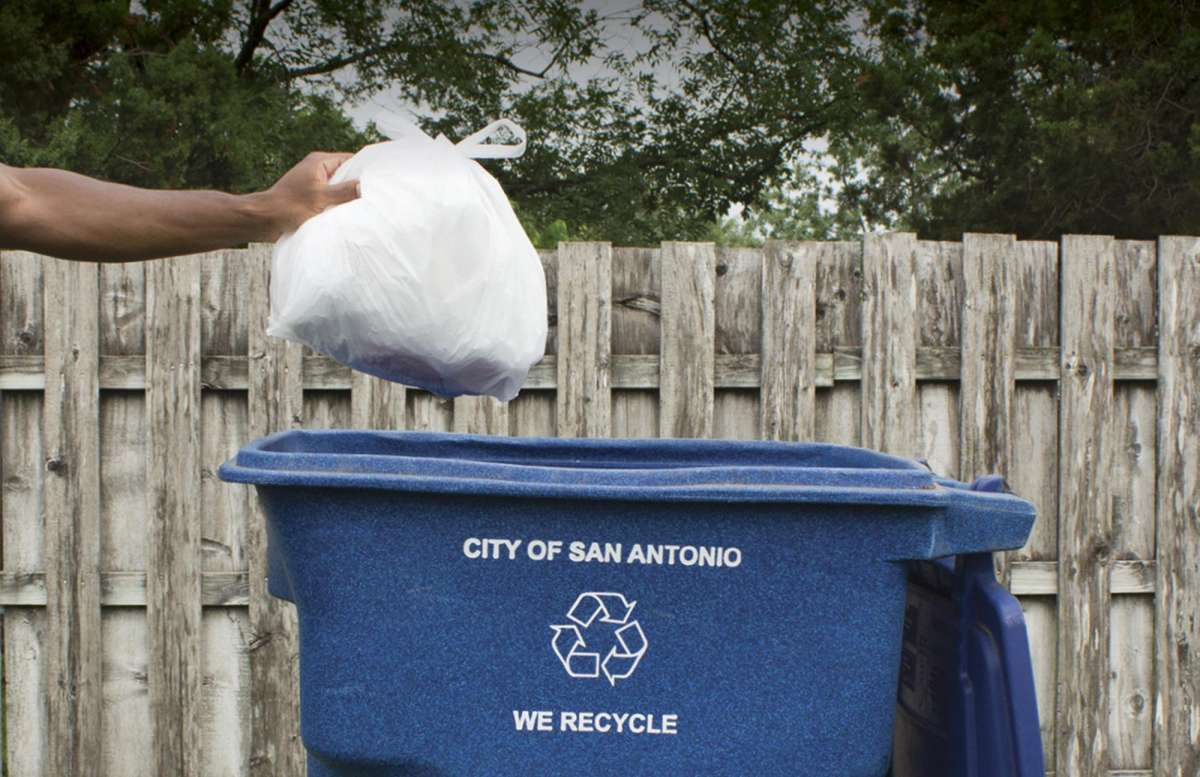plastic_bag: (263, 91, 553, 410)
